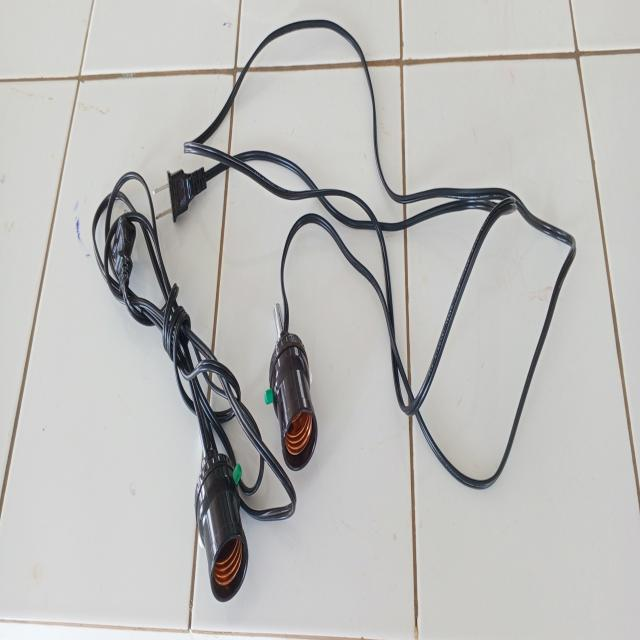BNC Cable: (86, 11, 572, 606)
